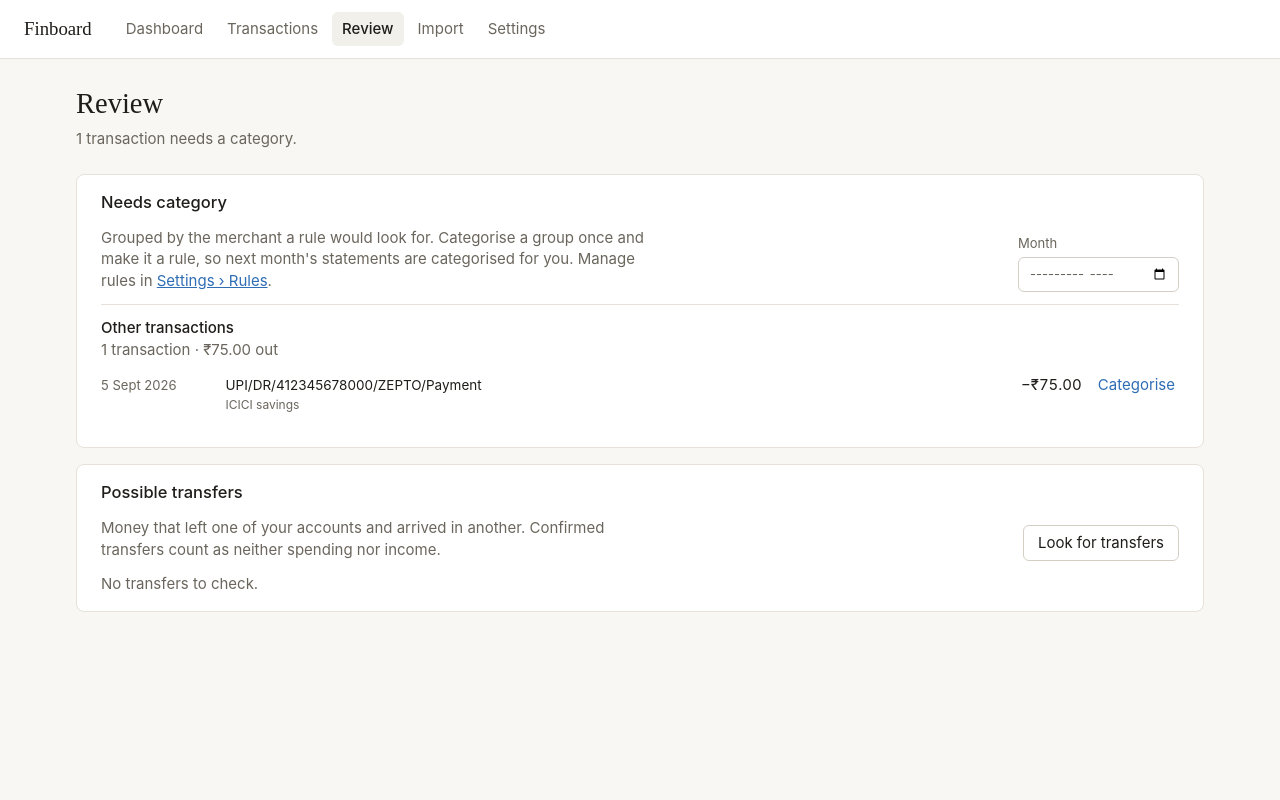
Test: Suggestions in the categorise dialog › Make a rule fills in the category and opens the rule editor
Step 1. Click the button with aria-label "Categorise UPI" → (1136, 385), box [1094,374,1179,396]
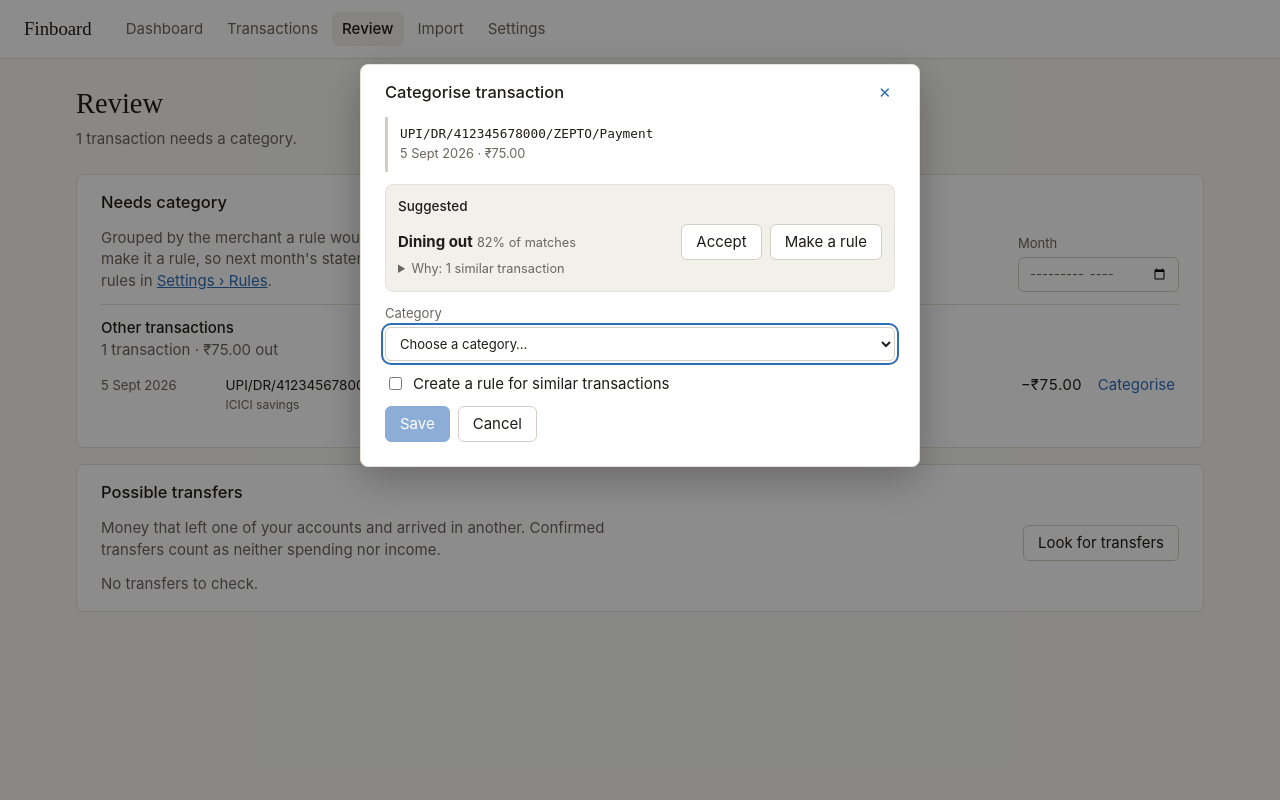
Step 2. Click the button "Make a rule" → (826, 242), box [770,224,882,260]
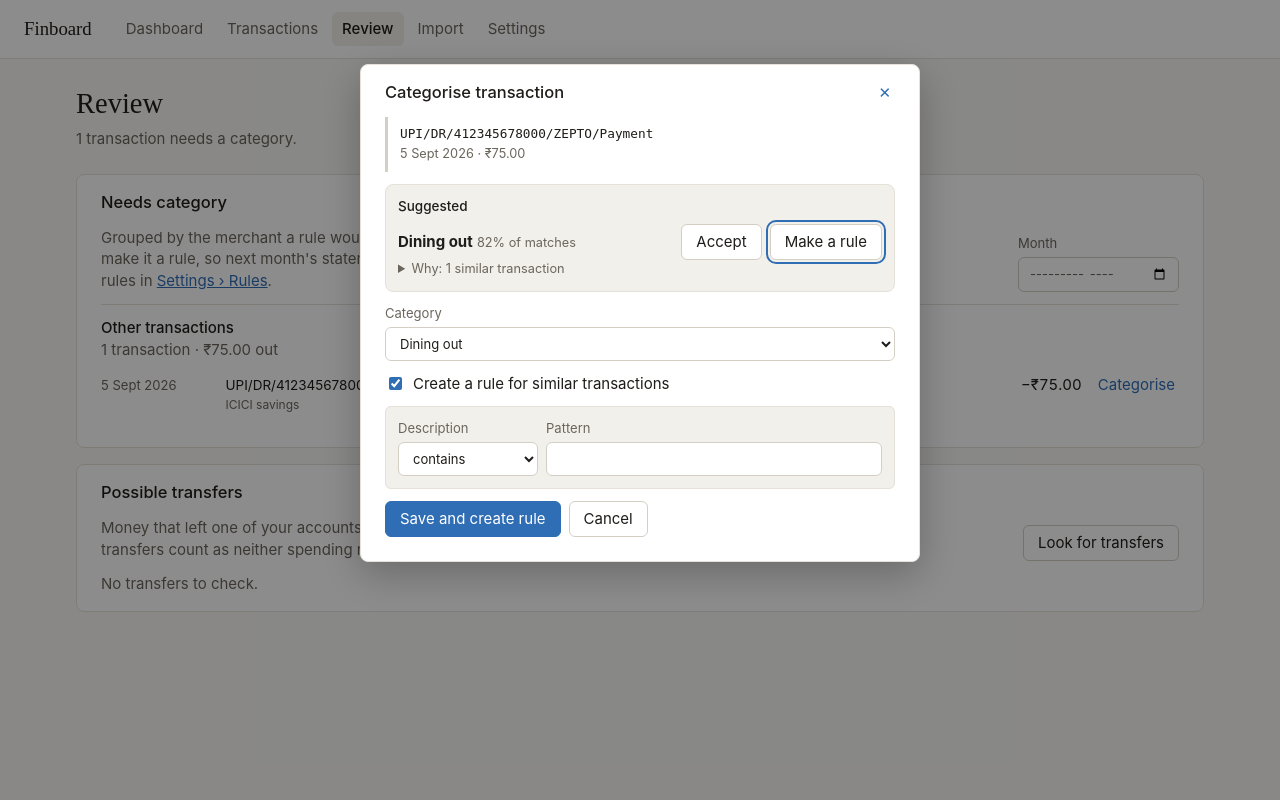
Expected: the checkbox labelled "Create a rule for similar transactions" is checked, [389,377,402,390]
Expected: the dropdown labelled "Category" shows "Dining out", [385,327,895,361]
